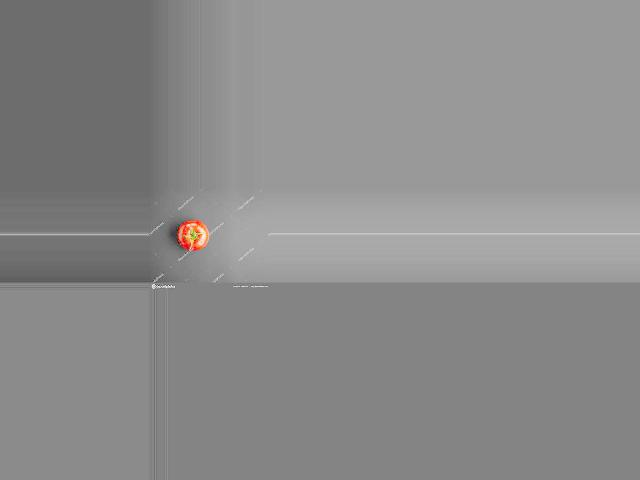tomato: (178, 219, 210, 251)
